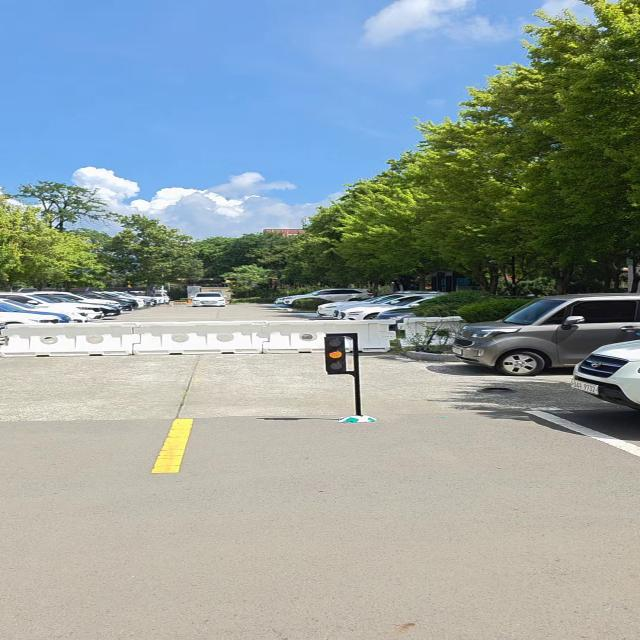yellow: (324, 337, 346, 374)
